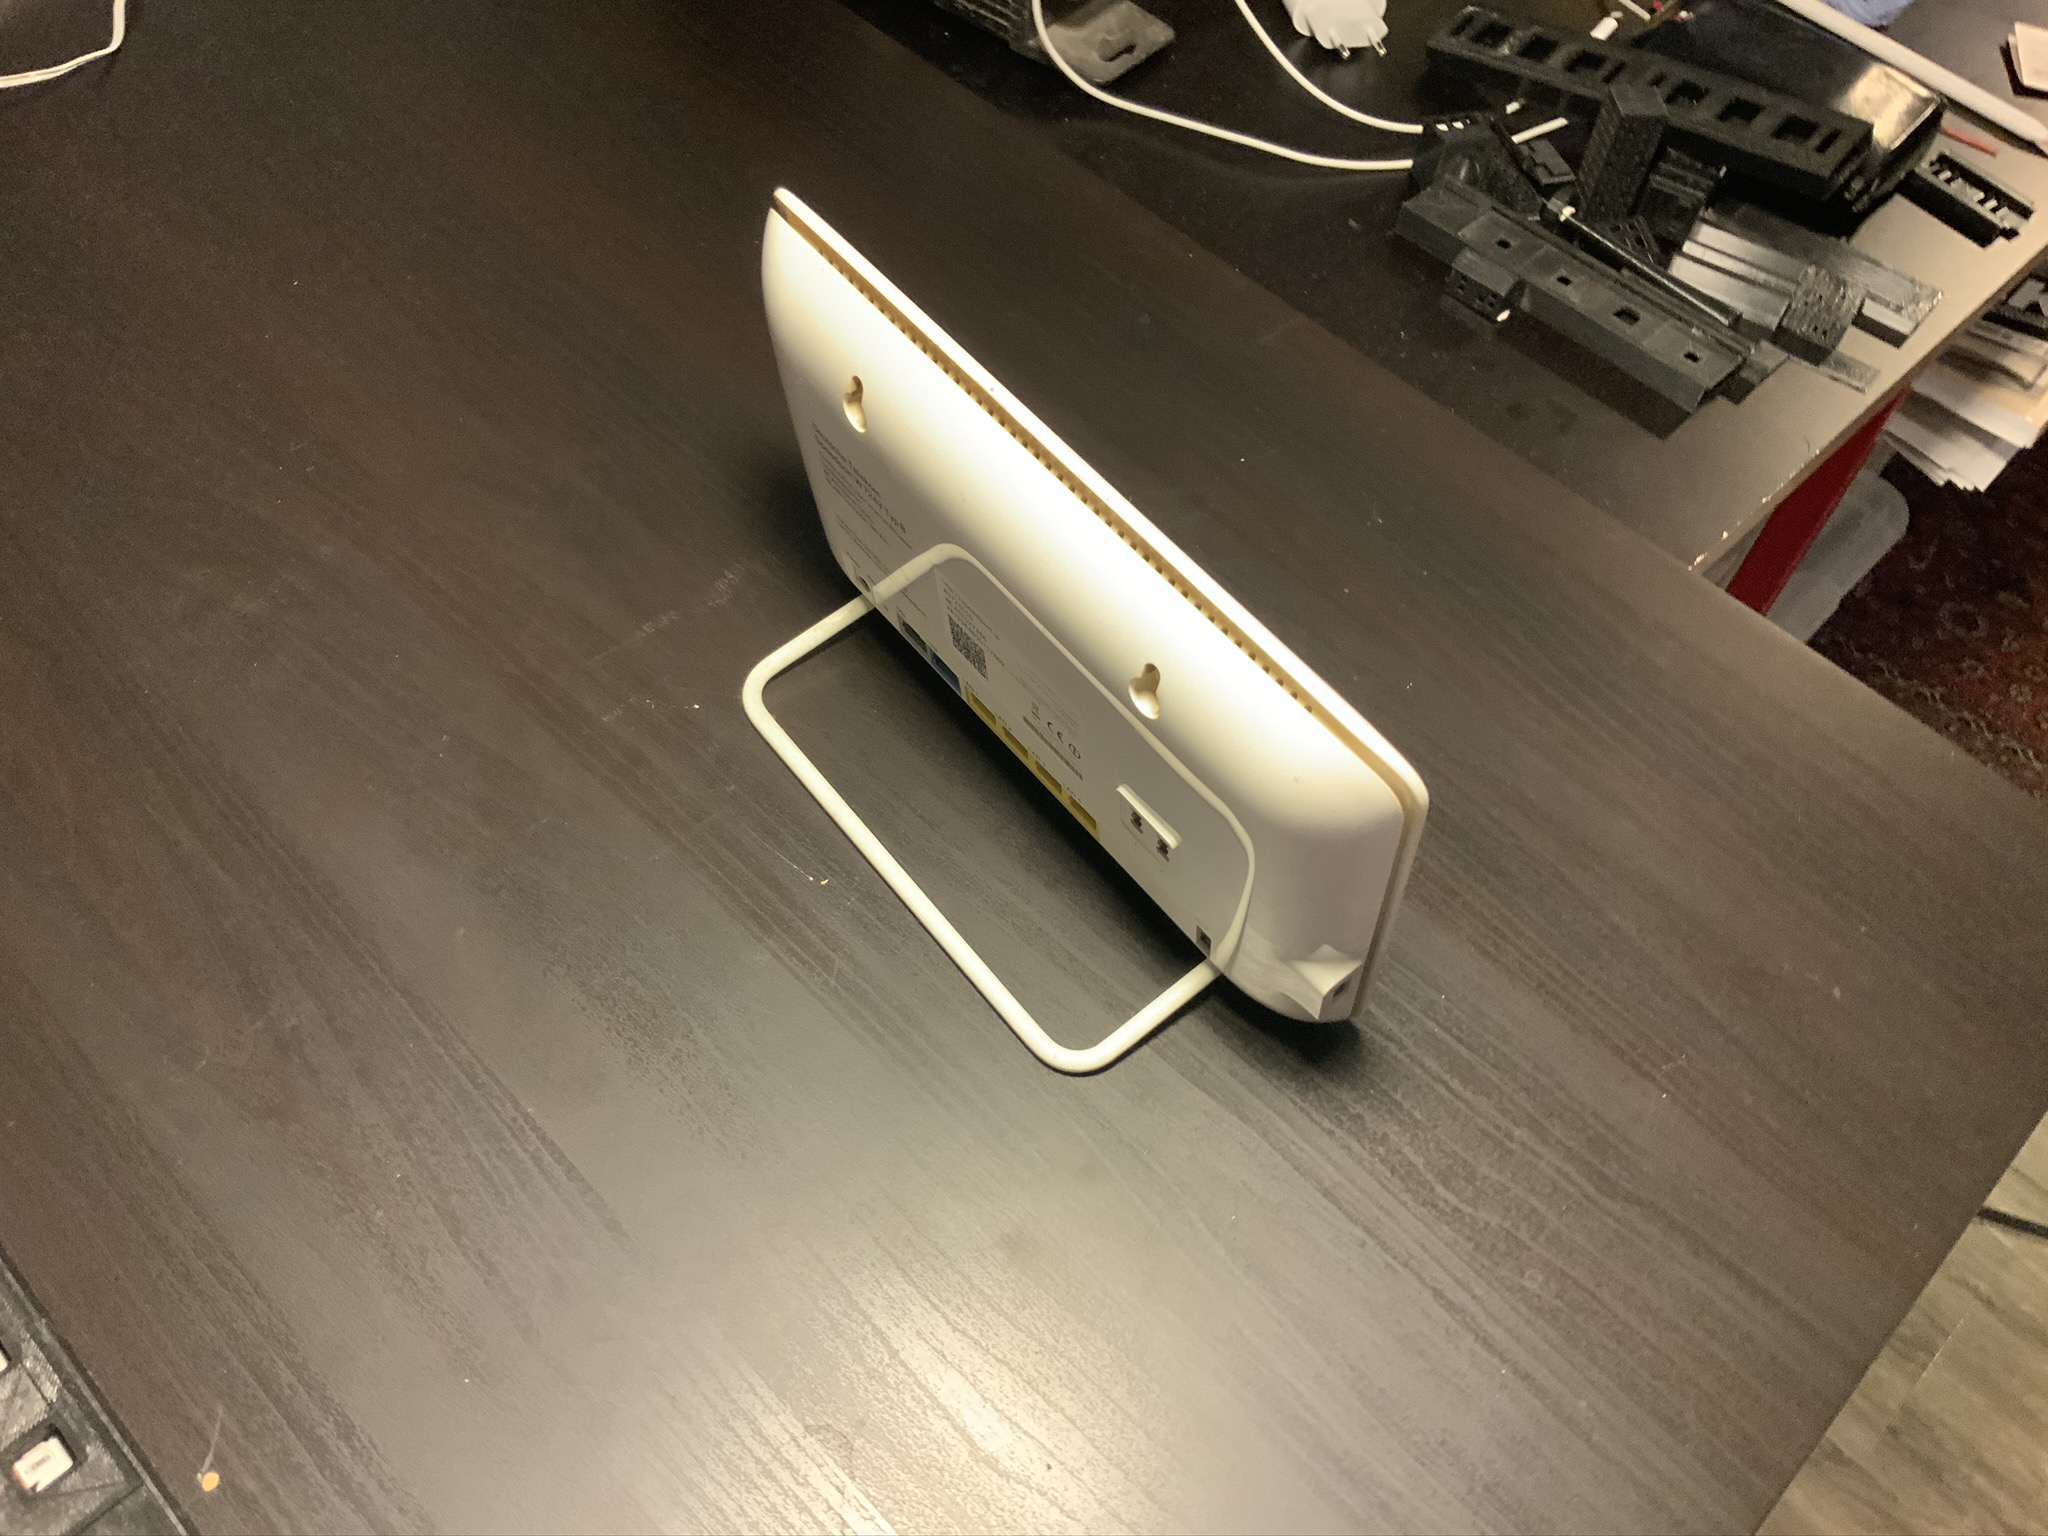router: (745, 181, 1437, 1050)
